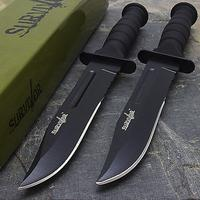knife: (15, 3, 139, 193), (95, 6, 193, 189)
